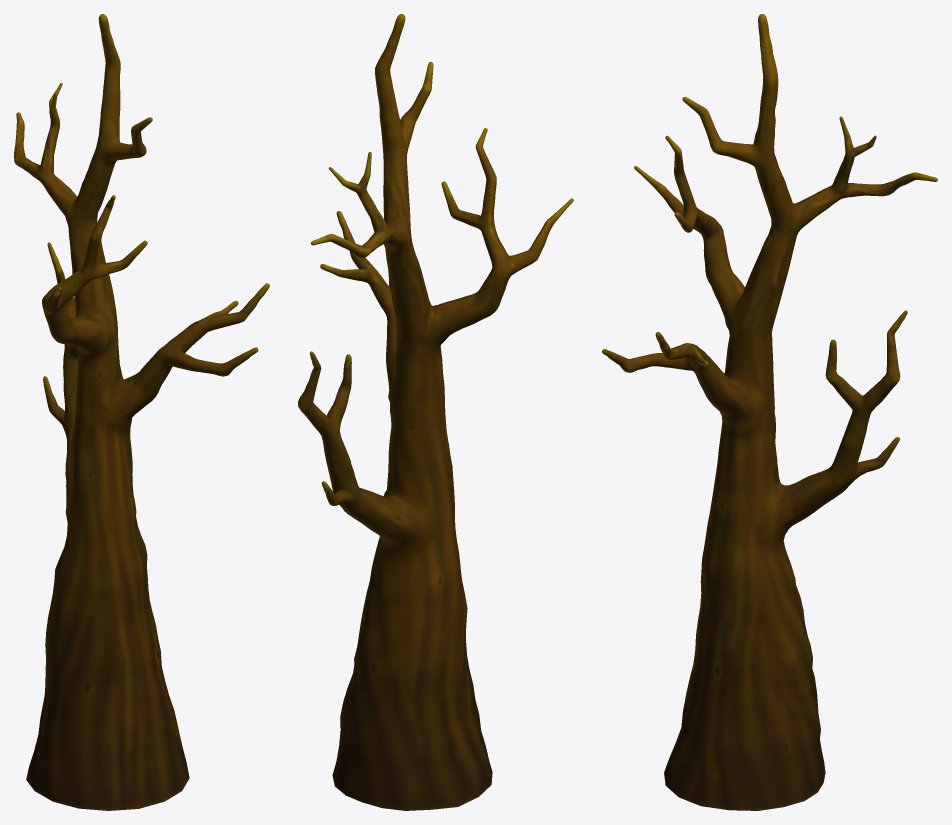
The model's file is SM_Tree_2_Trunk.fbx.
3 renders of one model, left to right at view 1: azimuth 30°, elevation 25°; view 2: azimuth 150°, elevation 25°; view 3: azimuth 270°, elevation 25°, orthographic.
Visible parts, largest first — view 1: SM_Tree_2_Trunk_LOD0; view 2: SM_Tree_2_Trunk_LOD0; view 3: SM_Tree_2_Trunk_LOD0.
Boxes of the visible parts, box(x1,y1,x2,y2) form: SM_Tree_2_Trunk_LOD0: box(14, 14, 269, 810); SM_Tree_2_Trunk_LOD0: box(298, 14, 573, 810); SM_Tree_2_Trunk_LOD0: box(602, 14, 937, 810).
Size of the model in its own units: 840 by 1087 by 2734.
1 material, 1 textured.
